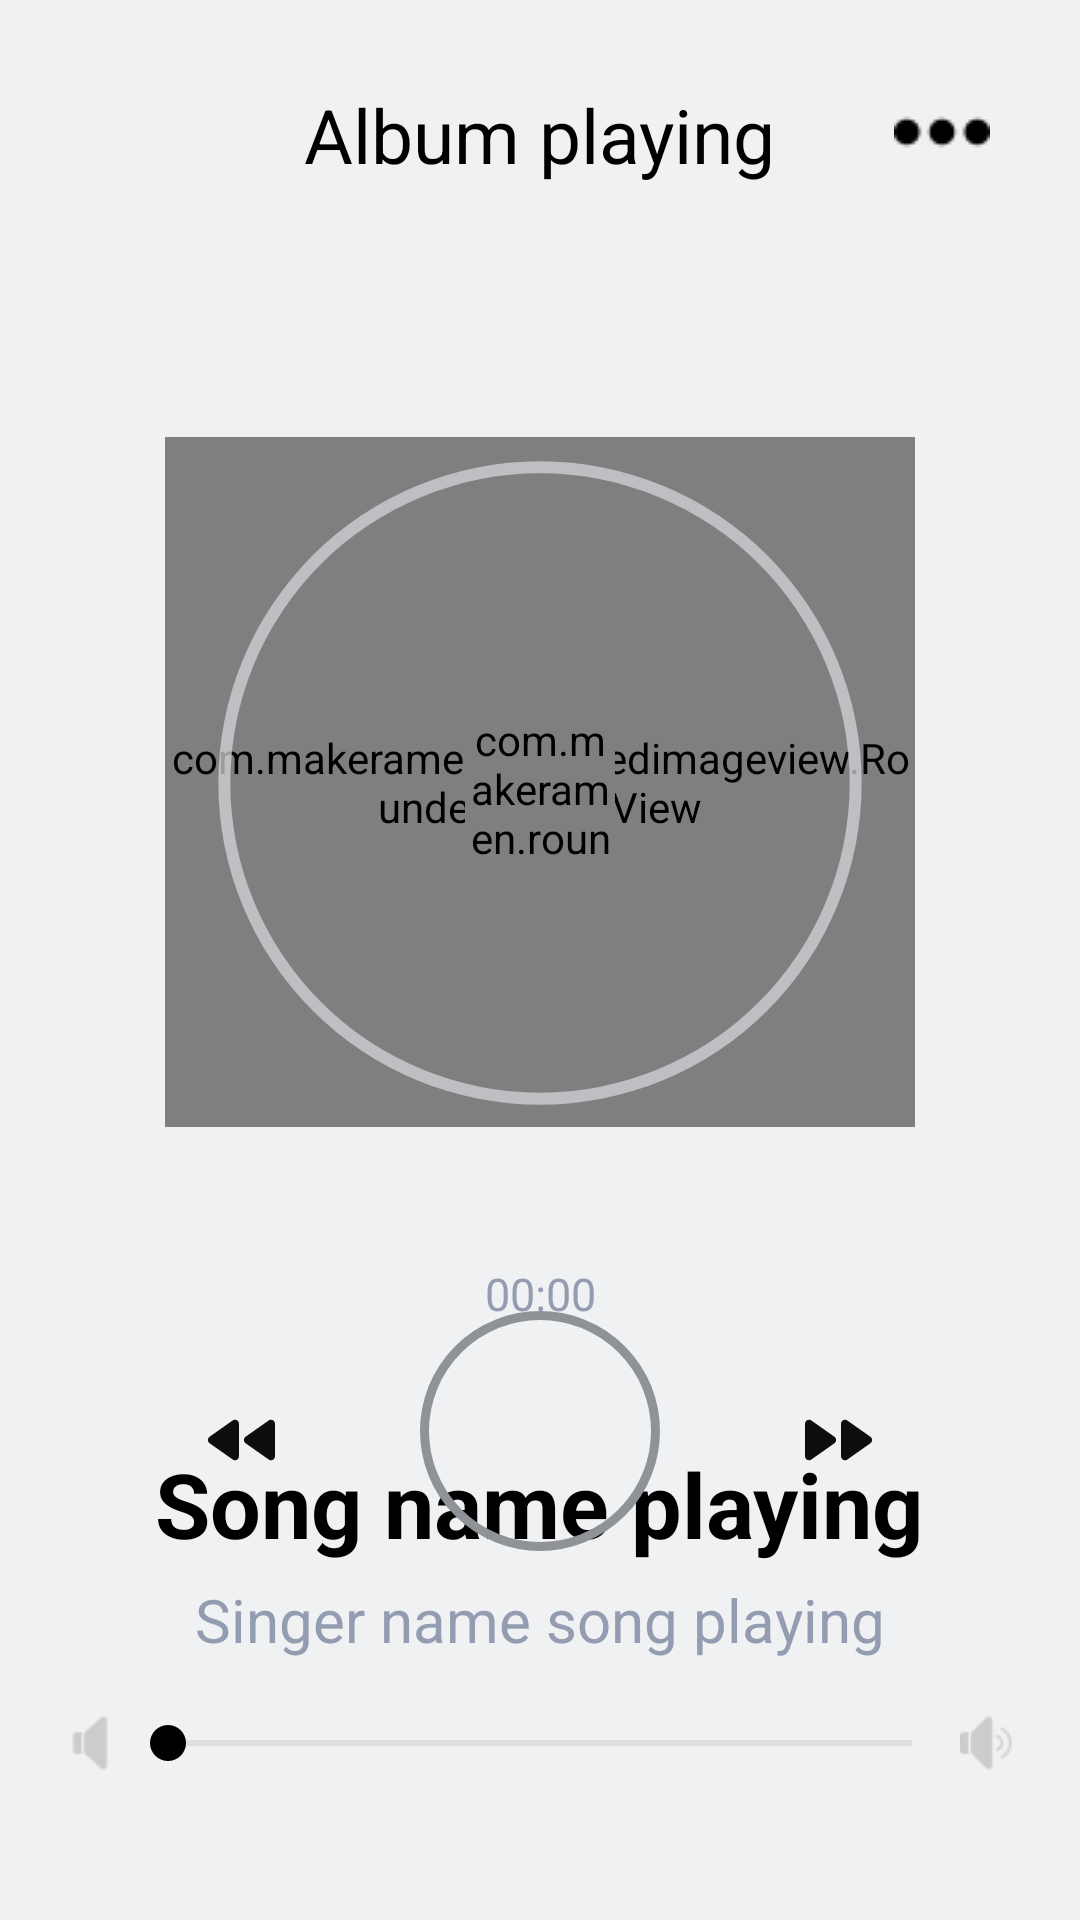

Icons on this 1080 x 1920 Android screen, each with the point to tap as (x=x, y=y):
volume decrease: (x=90, y=1743)
volume increase: (x=985, y=1743)
